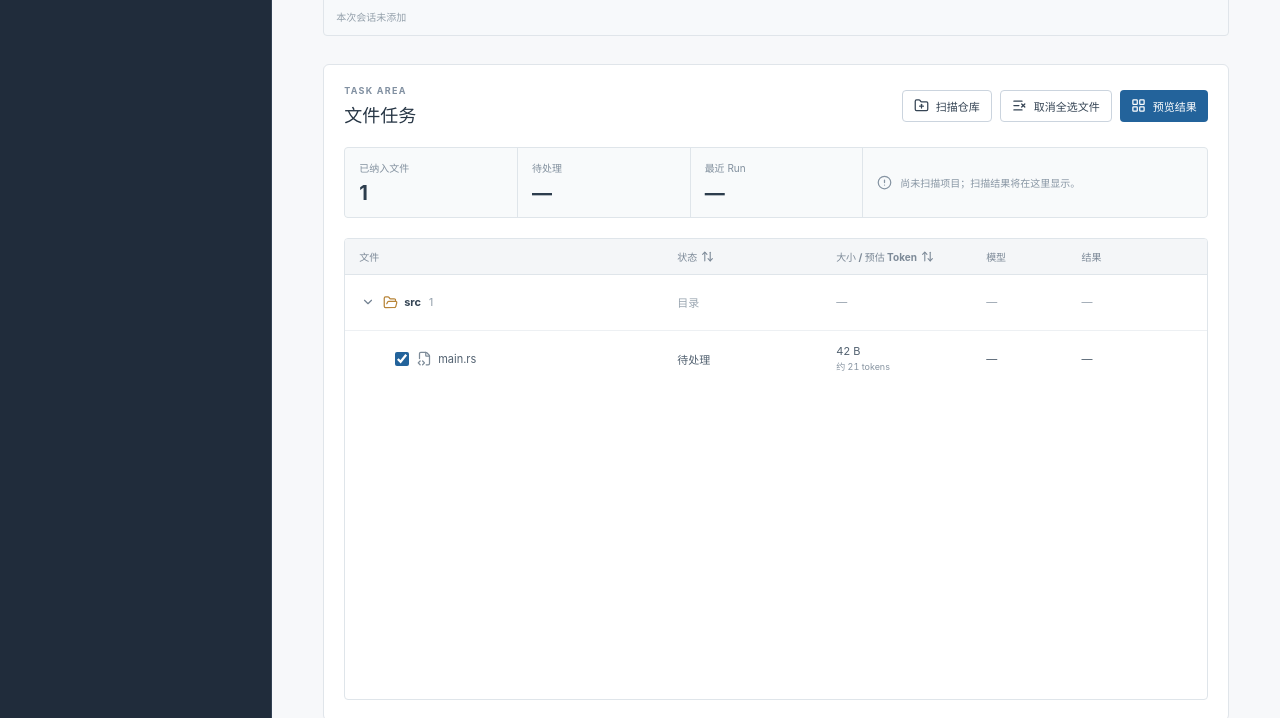
Test case: App scan flow › persists a file exclusion from the tree
The width and height of the screenshot is (1280, 718).
(page scrolled)
Click the checkbox named "排除文件 src/main.rs": (402, 359) [395,352,409,366]
(page scrolled)
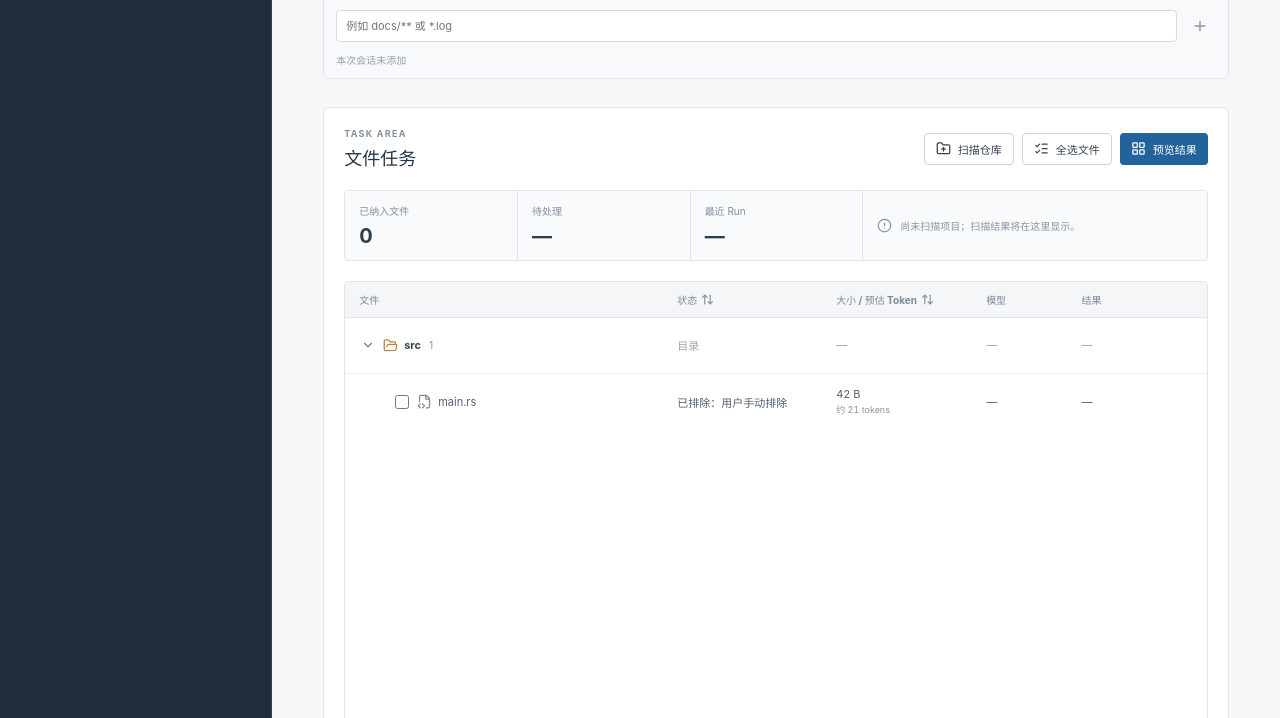
Result: the text "已排除：用户手动排除" is shown at [677,396,787,410]
